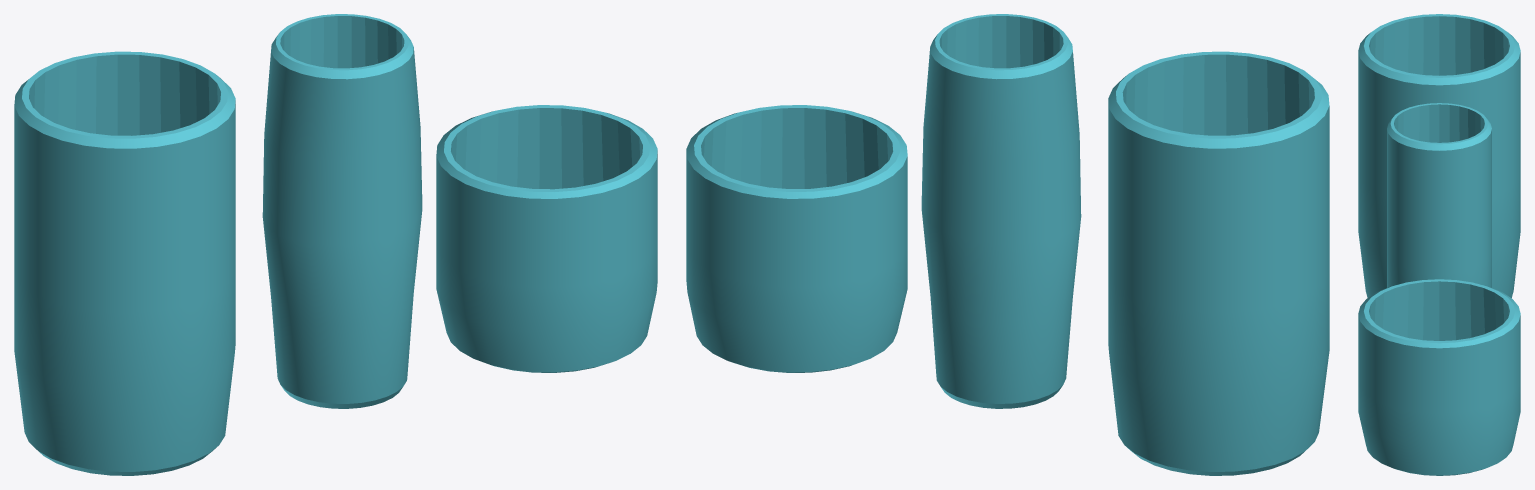
Rendered from b2f0b1b0-f59e-4baf-8844-0da4b2dc0205.glb.
3 views of the same model, side by side, from view 1: azimuth 30°, elevation 25°; view 2: azimuth 150°, elevation 25°; view 3: azimuth 270°, elevation 25° (orthographic). The views are drawn at different scales.
Parts seen in each view (by area): view 1: ChamferCyl001, ChamferCyl002, ChamferCyl003; view 2: ChamferCyl001, ChamferCyl002, ChamferCyl003; view 3: ChamferCyl003, ChamferCyl001, ChamferCyl002.
Part boxes in pixels (x1,y1,x2,y2): ChamferCyl001: (14, 51, 235, 475); ChamferCyl002: (262, 14, 422, 408); ChamferCyl003: (436, 105, 657, 372); ChamferCyl001: (1108, 51, 1329, 475); ChamferCyl002: (921, 14, 1081, 408); ChamferCyl003: (686, 105, 907, 372); ChamferCyl003: (1358, 279, 1520, 475); ChamferCyl001: (1358, 14, 1520, 297); ChamferCyl002: (1387, 103, 1491, 287).
Size of the model in its own units: 80.86 by 42.94 by 25.3.
